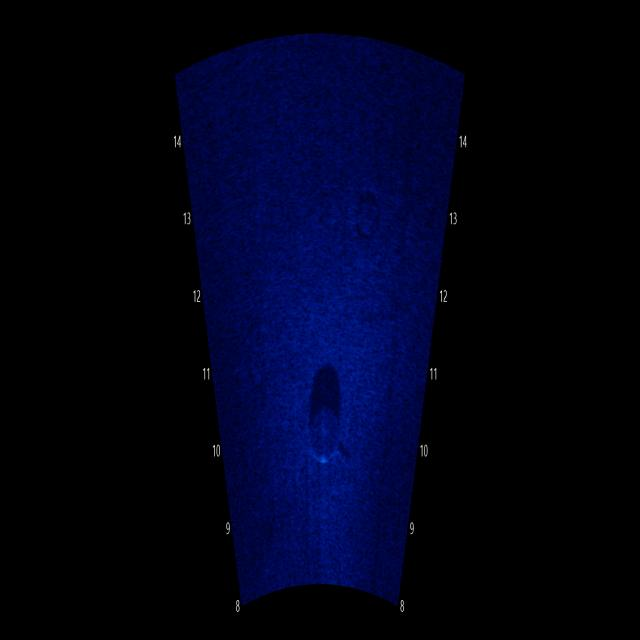circle: (304, 386, 348, 476)
